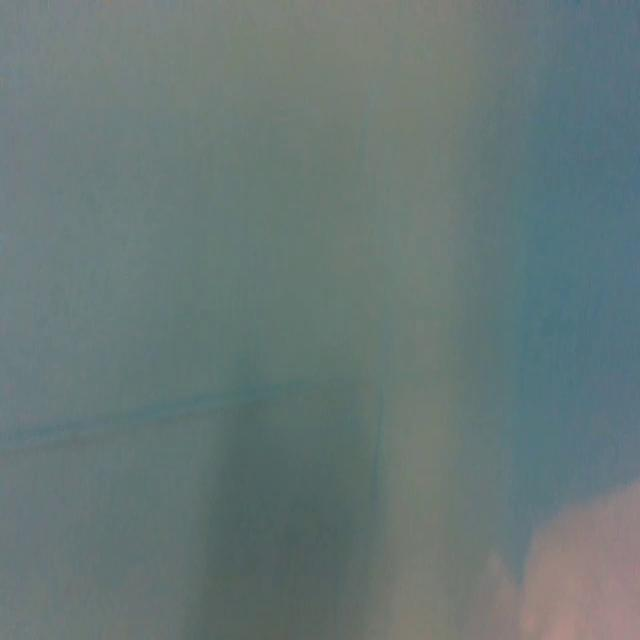plastic bags: (478, 481, 640, 640)
